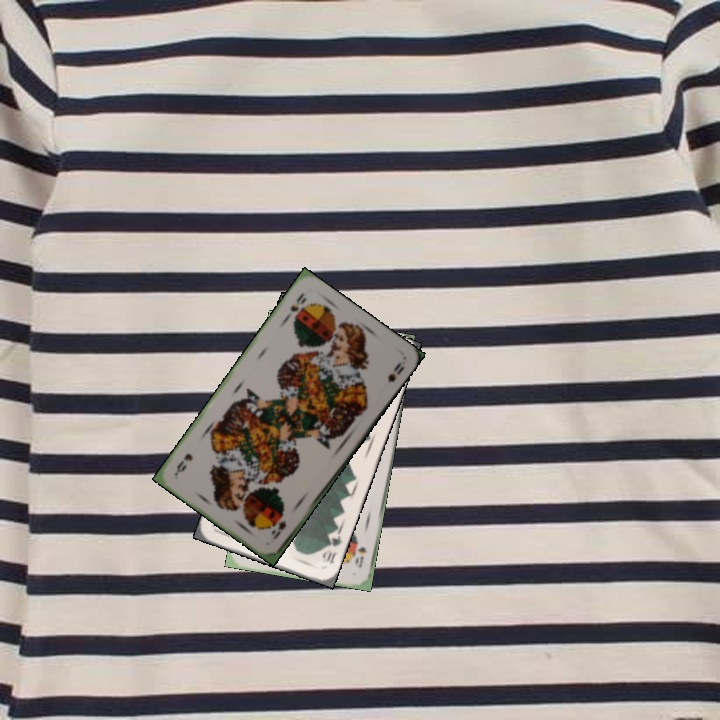G10: (318, 529, 344, 567)
SO: (281, 289, 309, 323), (267, 516, 289, 542), (351, 543, 370, 571)
